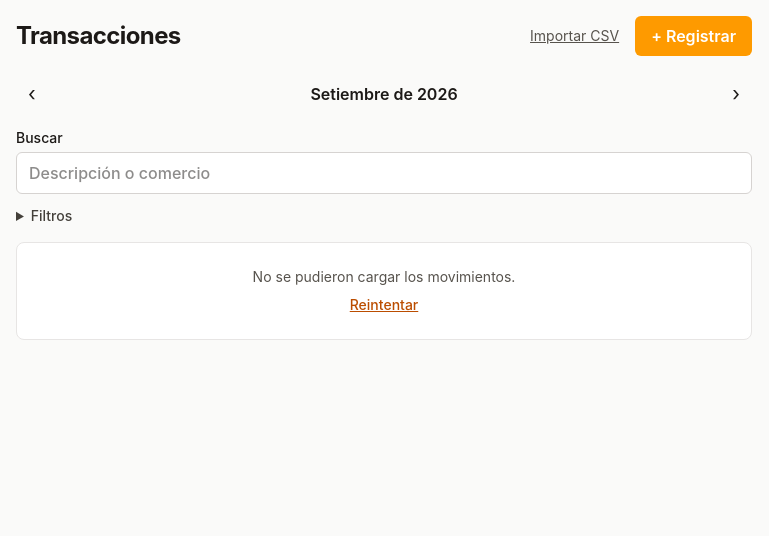
Test: TransactionsScreen › explains a failure and can try again
The width and height of the screenshot is (769, 536).
Expected: the message shows "No se pudieron cargar los movimientos.", [253,268,515,285]
Click the button "Reintentar" at x=384, y=305, box [350,295,418,315]
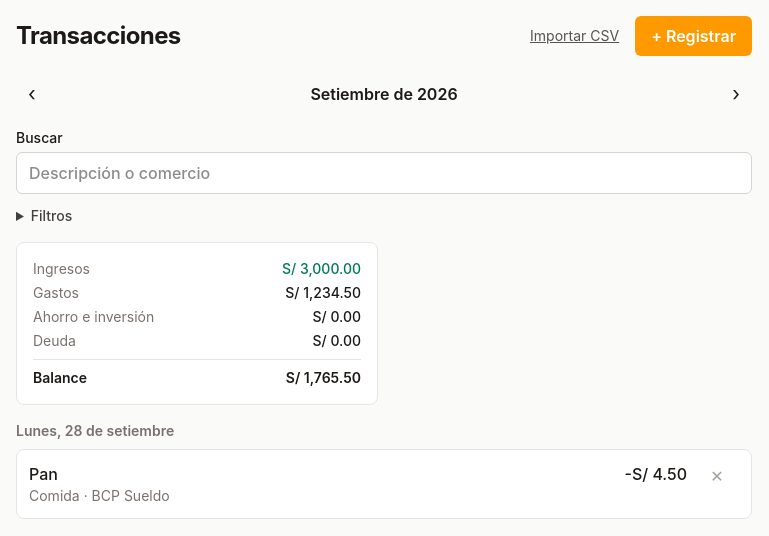
Result: the text "Pan" is shown at [29,464,58,484]
